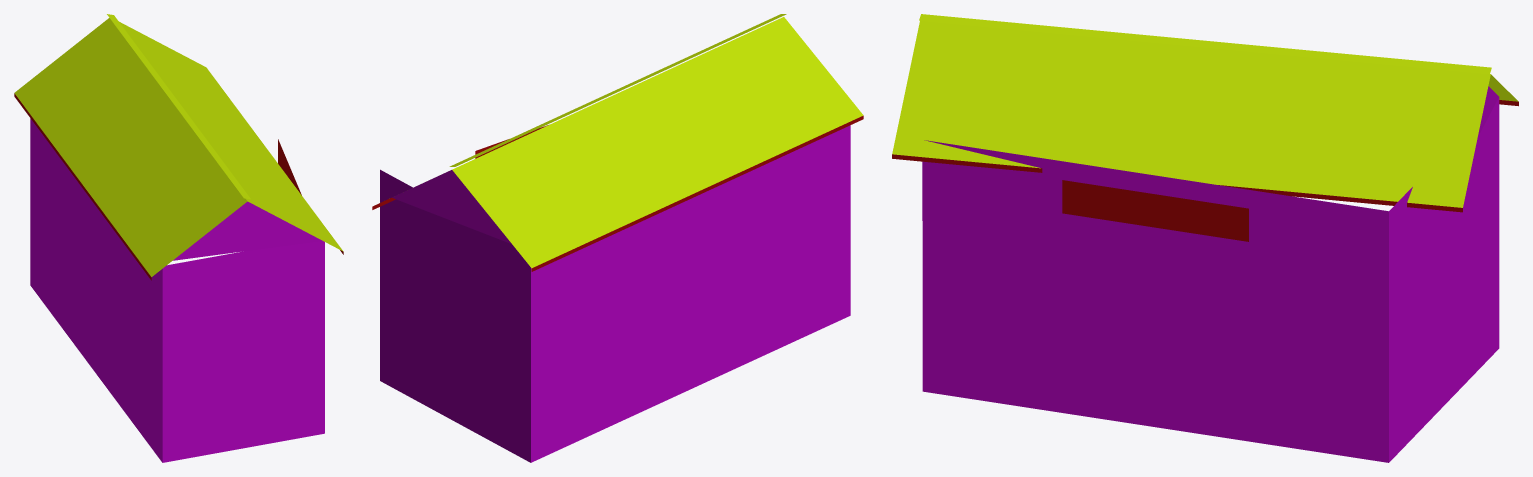
The model's file is bgj_332.glb.
3 views of the same model, side by side, from view 1: azimuth 30°, elevation 25°; view 2: azimuth 150°, elevation 25°; view 3: azimuth 270°, elevation 25° (orthographic). The views are drawn at different scales.
Parts seen in each view (by area): view 1: bgj_332; view 2: bgj_332; view 3: bgj_332.
Boxes of the visible parts, box(x1,y1,x2,y2) form: bgj_332: box(14, 14, 343, 462); bgj_332: box(372, 14, 863, 462); bgj_332: box(892, 14, 1518, 462).
Bounding box in the file's own units: 10.03 × 8.8 × 15.31.
